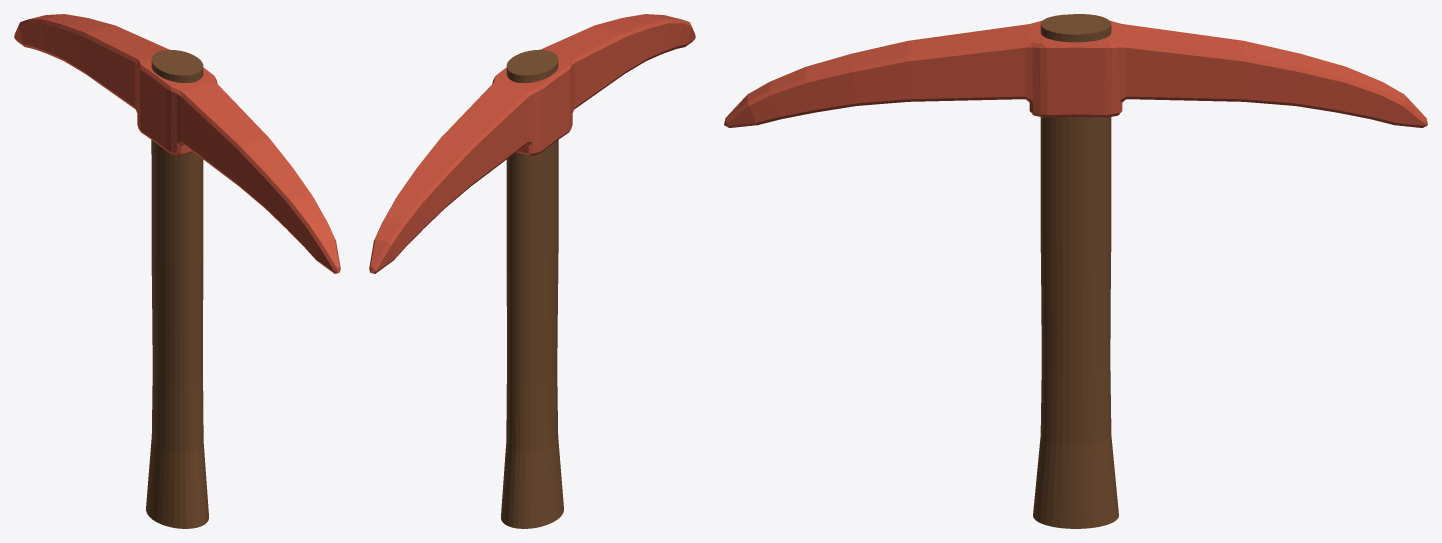
File: PickaxeCopper.fbx
3 views of the same model, side by side, from view 1: azimuth 30°, elevation 25°; view 2: azimuth 150°, elevation 25°; view 3: azimuth 270°, elevation 25° (orthographic). The views are drawn at different scales.
Parts seen in each view (by area): view 1: Cylinder, Cube; view 2: Cylinder, Cube; view 3: Cube, Cylinder.
Boxes of the visible parts, left/top/right/bottom form: Cylinder: left=146, top=49, right=208, bottom=528; Cube: left=14, top=14, right=340, bottom=273; Cylinder: left=501, top=49, right=563, bottom=528; Cube: left=369, top=14, right=695, bottom=273; Cube: left=724, top=20, right=1427, bottom=127; Cylinder: left=1033, top=14, right=1118, bottom=528.
Bounding box in the file's own units: 154 × 1339 × 1734.
